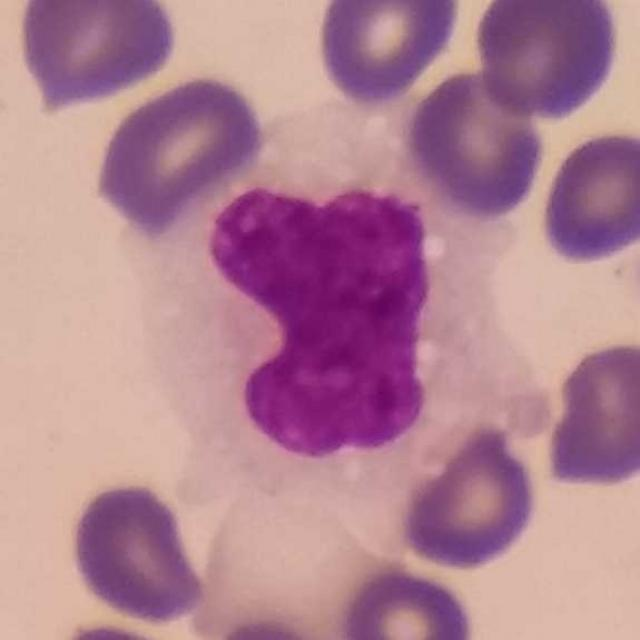Monocyte: (144, 128, 534, 489)
RBC: (92, 68, 270, 236), (394, 418, 544, 574), (399, 64, 548, 220), (64, 476, 212, 629), (468, 0, 625, 122), (13, 0, 183, 111), (310, 0, 466, 107), (540, 334, 640, 493), (535, 125, 640, 268), (335, 562, 480, 640), (198, 613, 346, 640), (37, 617, 208, 640)
